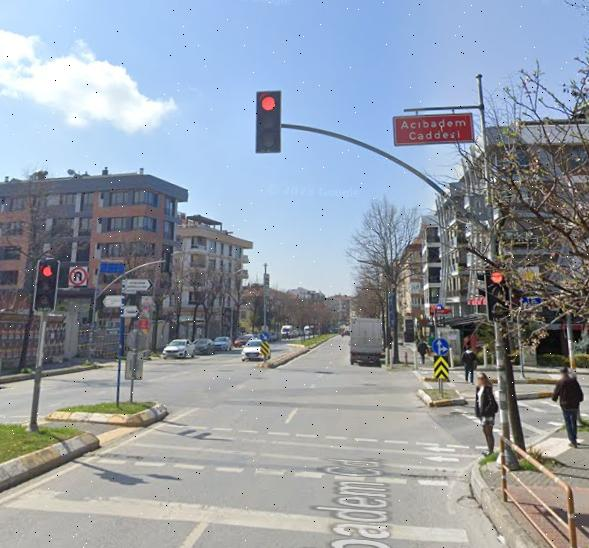redlight: (258, 90, 279, 152), (484, 270, 510, 317), (36, 257, 57, 312)
